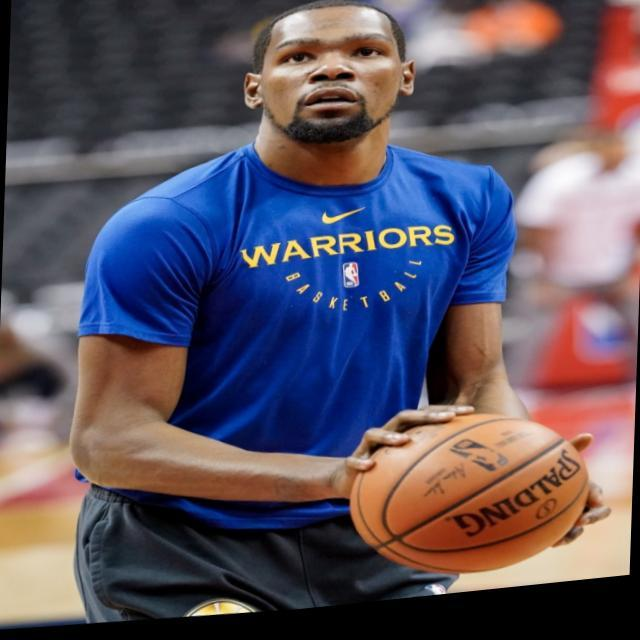Nonhelmet: (237, 0, 418, 151)
